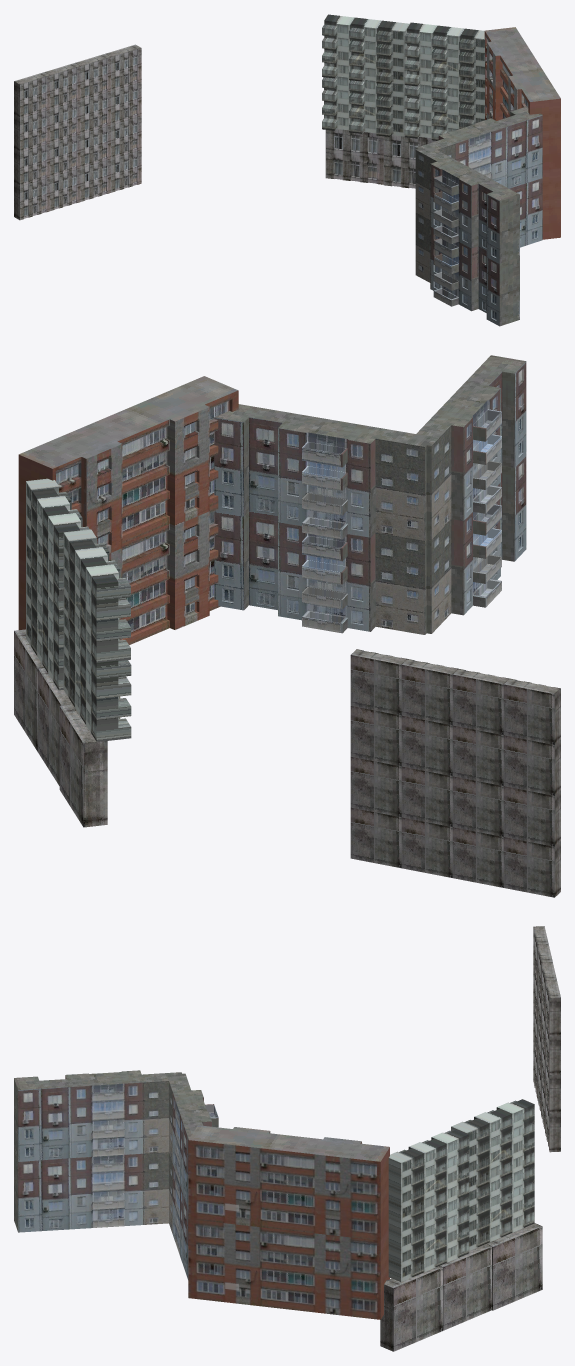
The model's file is housing.gltf.
3 views of the same model, one above another, from view 1: azimuth 30°, elevation 25°; view 2: azimuth 150°, elevation 25°; view 3: azimuth 270°, elevation 25° (orthographic). The views are drawn at different scales.
Parts seen in each view (by area): view 1: Cube10, Cube9, Cube6, Cube8, Cube2, Cube4, Cube, Cube3, modular_building_grey117, modular_building_grey118, Cube7, modular_building_grey115 (+16 smaller); view 2: Cube8, Cube6, Cube7, Cube10, Cube5, Cube9, Cube2, Cube, modular_building_grey117, Cube4, modular_building_grey115, modular_building_grey111 (+17 smaller); view 3: Cube6, Cube5, Cube10, Cube9, Cube4, Cube3, Cube2, modular_building_grey119, Cube, modular_building_grey117, modular_building_grey118, Cube8 (+5 smaller).
Boxes of the visible parts, x1,y1,x2,y2 form: Cube10: (415,145,519,263); Cube9: (415,213,519,326); Cube6: (484,27,560,169); Cube8: (416,106,542,188); Cube2: (322,14,409,84); Cube4: (404,22,487,92); Cube: (322,76,406,136); Cube3: (404,84,484,140); modular_building_grey117: (325,129,383,184); modular_building_grey118: (383,135,435,188); Cube7: (509,177,542,247); modular_building_grey115: (14,72,50,118); Cube8: (214,404,433,540); Cube6: (18,376,238,561); Cube7: (214,511,426,634); Cube10: (409,355,526,540); Cube5: (18,503,220,644); Cube9: (426,456,526,633); Cube2: (63,529,130,662); Cube: (63,612,131,741); modular_building_grey117: (59,704,107,827); Cube4: (26,478,89,612); modular_building_grey115: (503,678,560,744); modular_building_grey111: (401,659,458,725); Cube6: (188,1125,389,1240); Cube5: (188,1219,389,1319); Cube10: (14,1070,183,1161); Cube9: (14,1150,168,1232); Cube4: (388,1129,469,1222); Cube3: (388,1194,469,1281); Cube2: (451,1099,534,1191); modular_building_grey119: (380,1266,442,1351); Cube: (469,1164,534,1250); modular_building_grey117: (487,1223,542,1310); modular_building_grey118: (440,1244,492,1330); Cube8: (167,1073,218,1208).
Size of the model in its own units: 198 by 74.19 by 192.
Materials: 4 (4 with a texture image).
